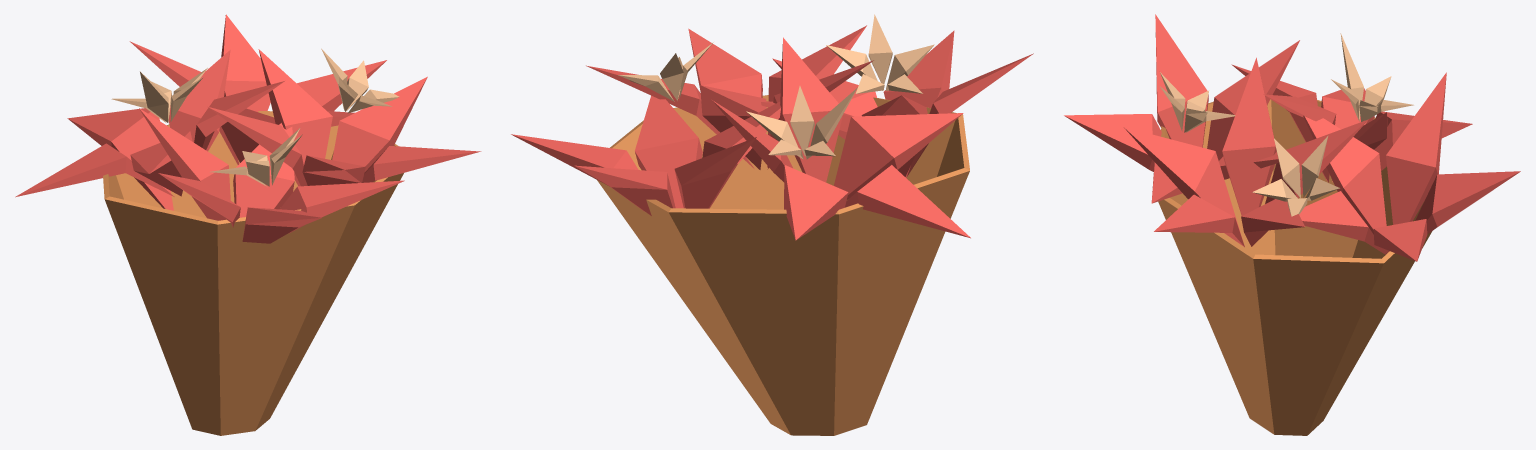
The model's file is BouquetGoop.gltf.
3 views of the same model, side by side, from view 1: azimuth 30°, elevation 25°; view 2: azimuth 150°, elevation 25°; view 3: azimuth 270°, elevation 25° (orthographic). The views are drawn at different scales.
Visible parts, largest first — view 1: flower_1.003; view 2: flower_1.003; view 3: flower_1.003.
Boxes of the visible parts, box(x1,y1,x2,y2) form: flower_1.003: box(15, 14, 481, 435); flower_1.003: box(511, 14, 1033, 435); flower_1.003: box(1064, 14, 1520, 435).
Size of the model in its own units: 0.3024 by 0.2514 by 0.2941.
Materials: 1 (1 with a texture image).
